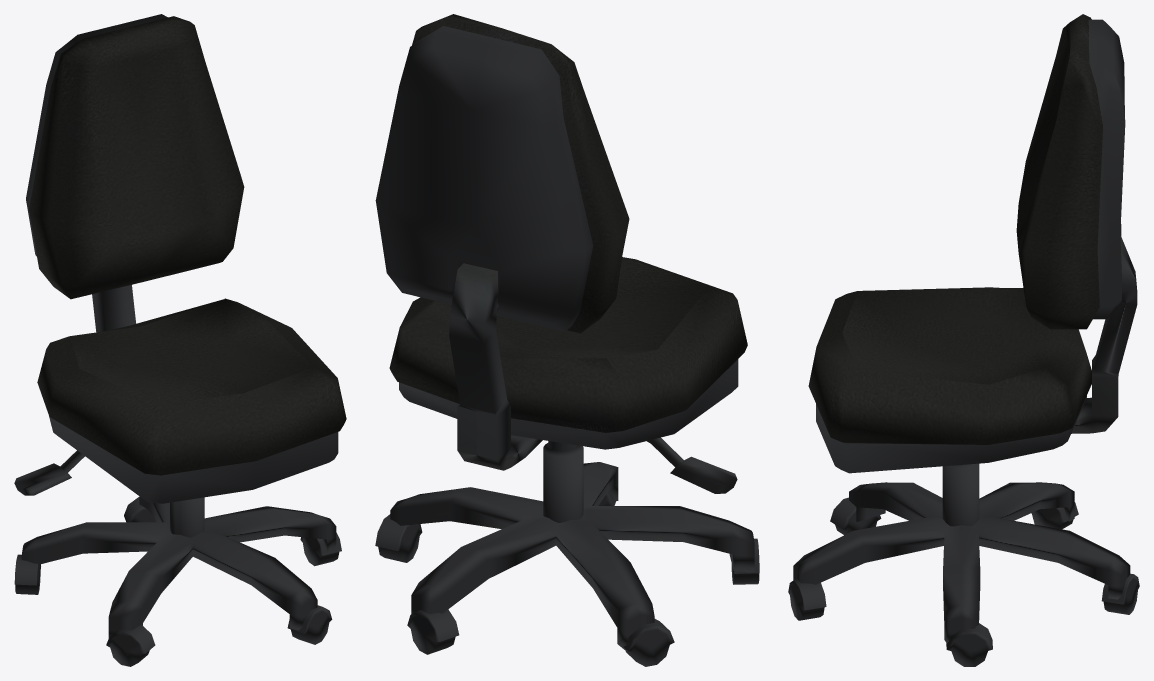
The model's file is office_chair.glb.
The picture shows the model from 3 angles, left to right: view 1: azimuth 30°, elevation 25°; view 2: azimuth 150°, elevation 25°; view 3: azimuth 270°, elevation 25°; orthographic projection. The views are drawn at different scales.
Visible parts, largest first — view 1: OfficeChair_Mesh; view 2: OfficeChair_Mesh; view 3: OfficeChair_Mesh.
Part boxes in pixels (<box>): OfficeChair_Mesh: <box>14,14,346,666</box>; OfficeChair_Mesh: <box>375,14,759,666</box>; OfficeChair_Mesh: <box>788,14,1139,666</box>.
Size of the model in its own units: 1.14 by 1.89 by 1.08.
Materials: 1 (1 with a texture image).
